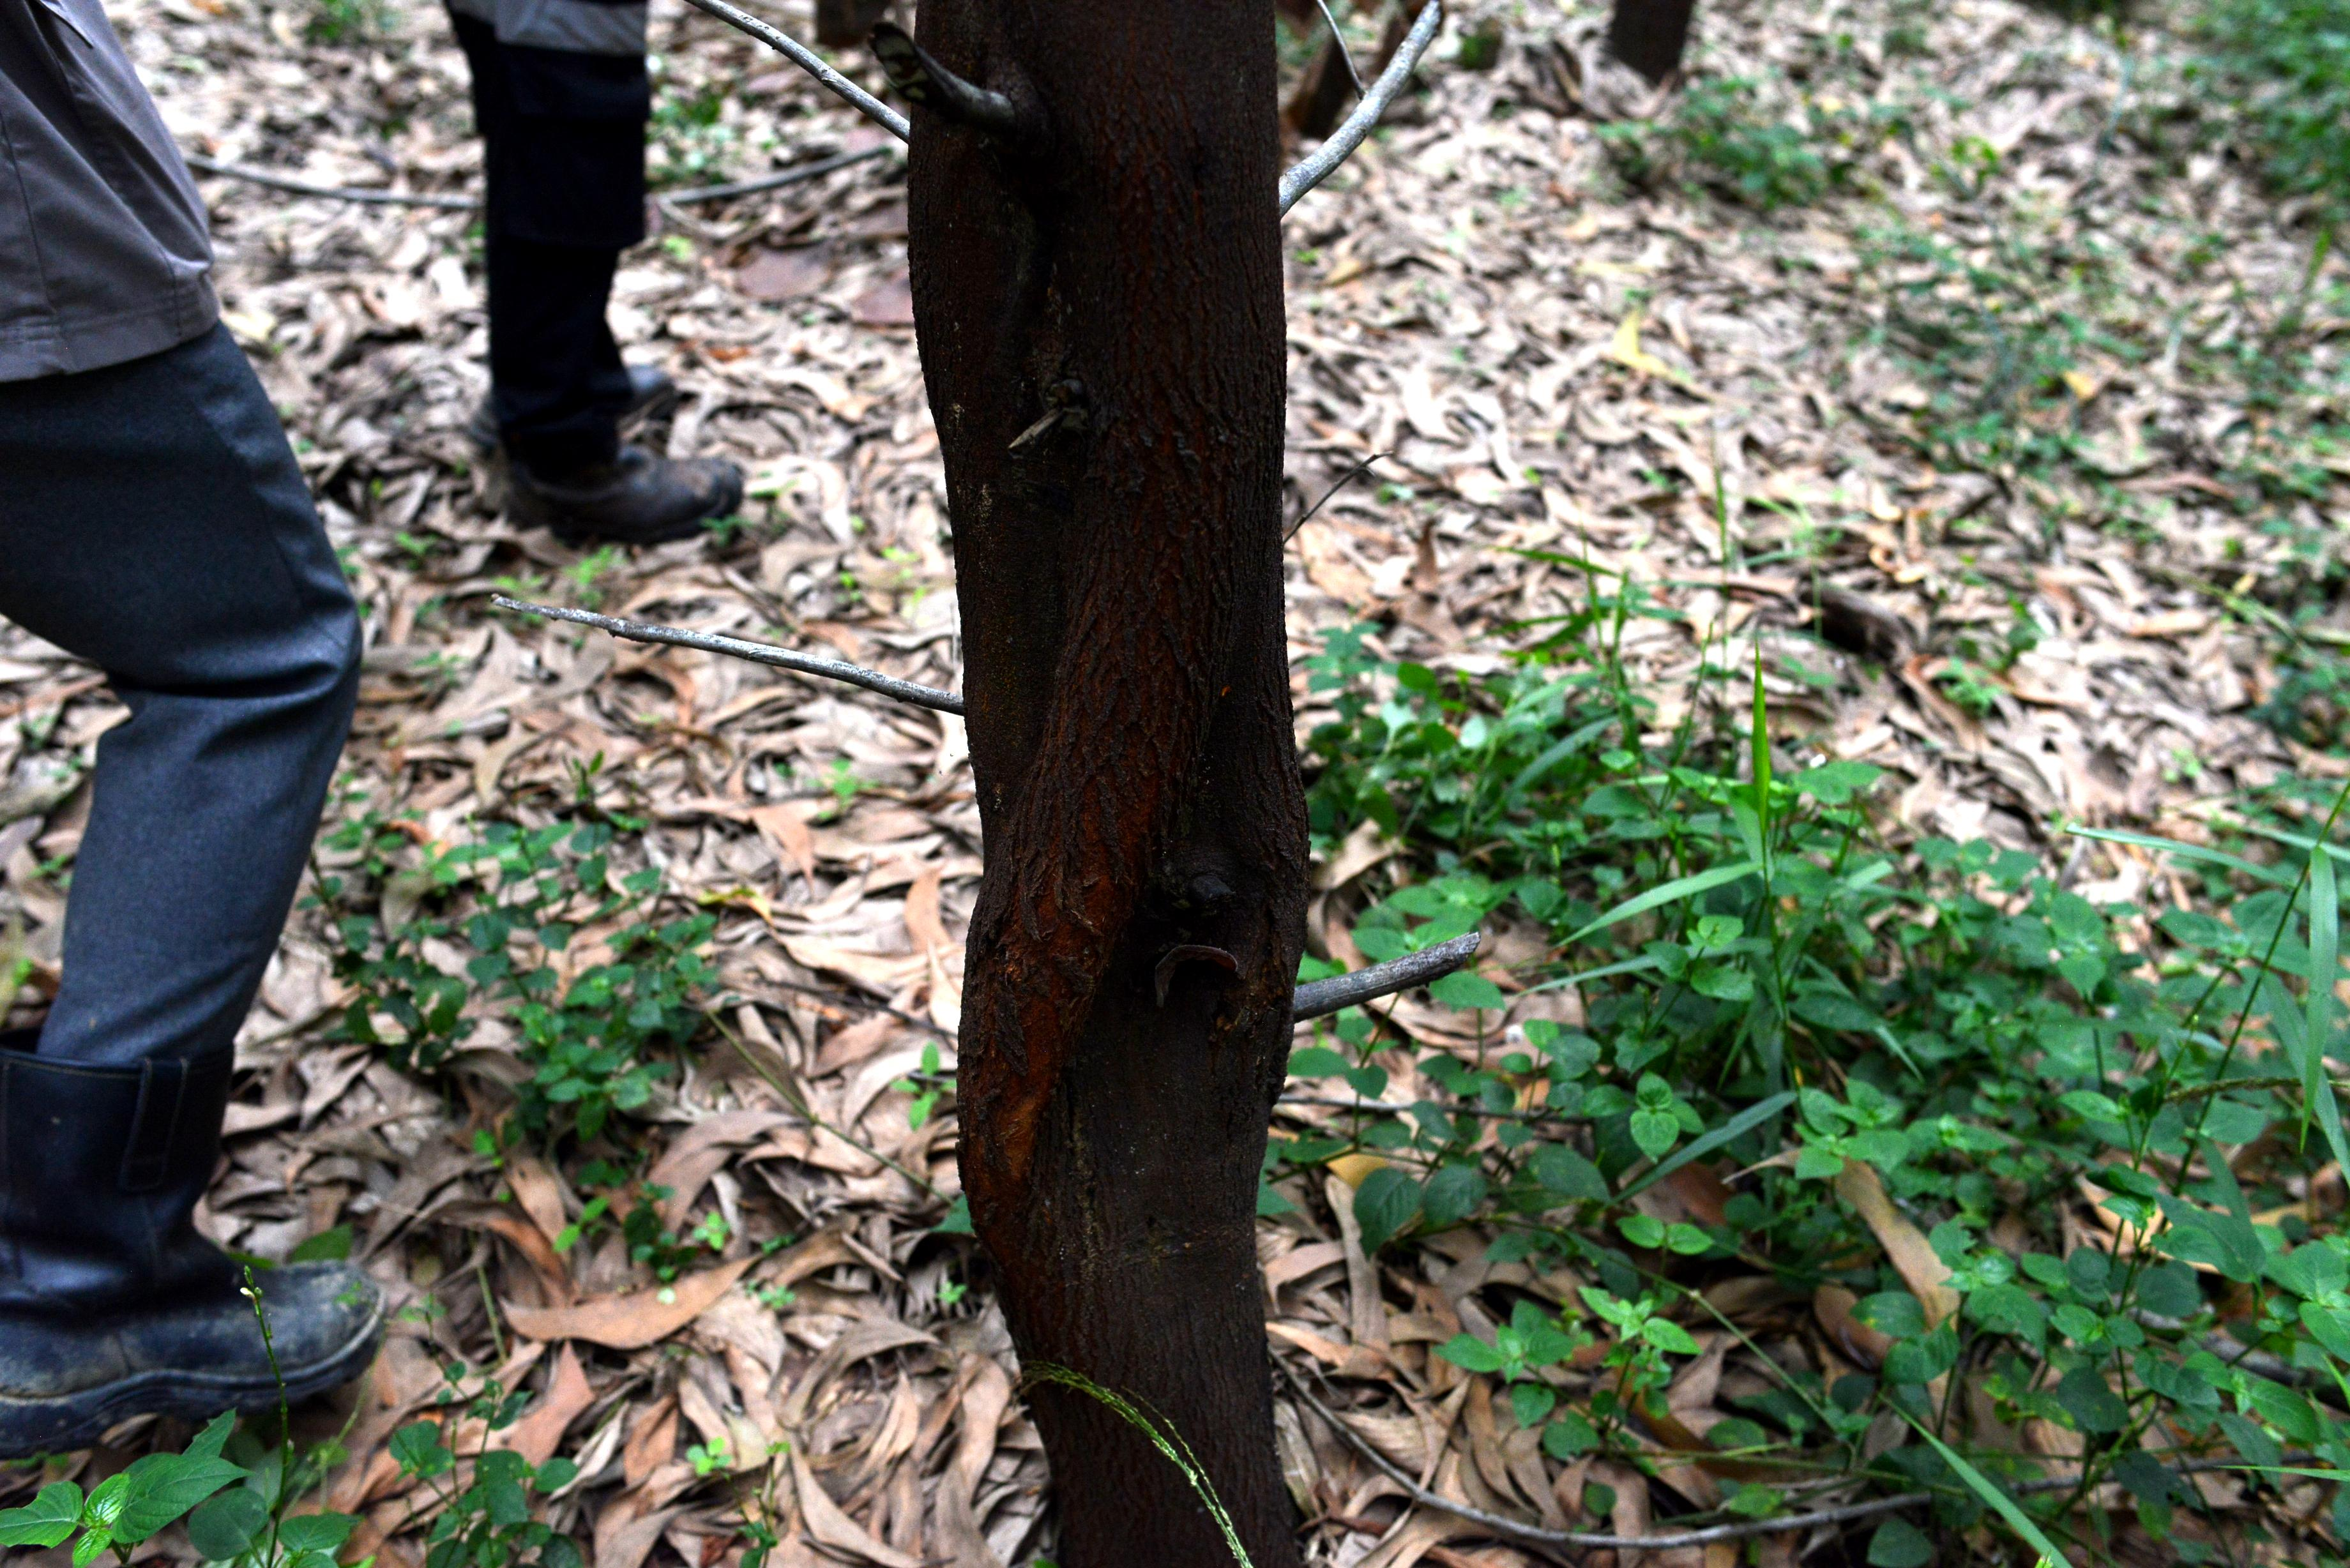Stem Deformation: (892, 38, 1346, 1568)
